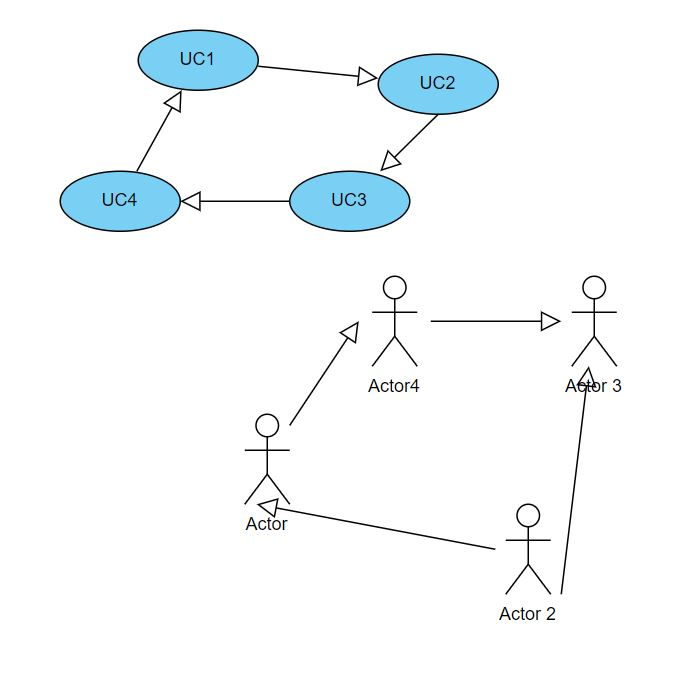actor: (243, 413, 288, 505), (506, 503, 550, 597), (572, 276, 616, 367), (371, 275, 415, 364)
generalization: (257, 499, 493, 549), (561, 365, 596, 597), (291, 321, 360, 425), (135, 89, 184, 172), (257, 63, 377, 90), (382, 112, 437, 169), (429, 310, 560, 332), (181, 190, 290, 213)
text: (361, 376, 426, 395), (562, 375, 625, 394), (496, 604, 559, 623), (98, 186, 142, 211), (417, 66, 456, 92), (175, 48, 219, 68), (248, 514, 292, 533), (325, 188, 366, 208)
use_case: (378, 53, 500, 116), (58, 170, 180, 232), (288, 170, 412, 231), (138, 30, 260, 87)
